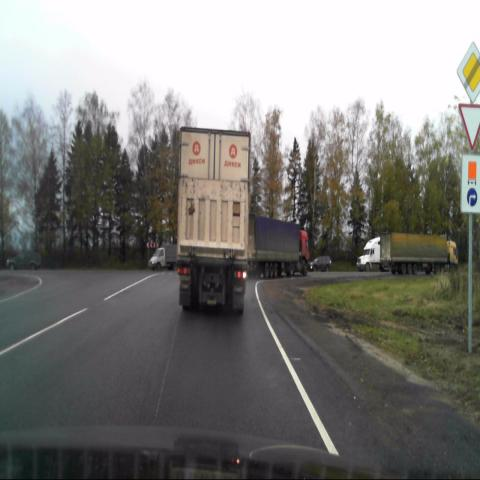4_8_3: (461, 153, 480, 212)
